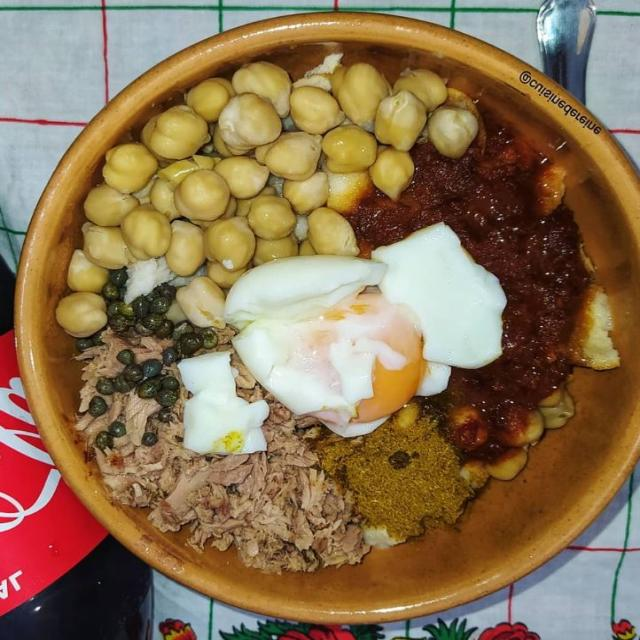Lablabi: (32, 58, 637, 625)
